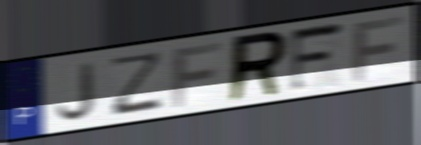F: (288, 19, 348, 96), (170, 39, 226, 110), (350, 13, 406, 84)
J: (54, 59, 98, 123)
R: (225, 28, 290, 106)
Z: (109, 48, 165, 118)
